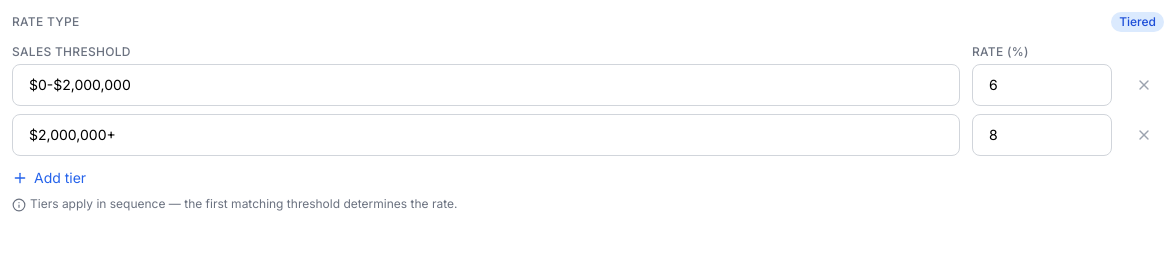
Tiered rate mode › adds a new empty row when "+ Add tier" is clicked
Step 1. Click the button "Add tier" → (49, 178), box x1=12 y1=168 x2=86 y2=188
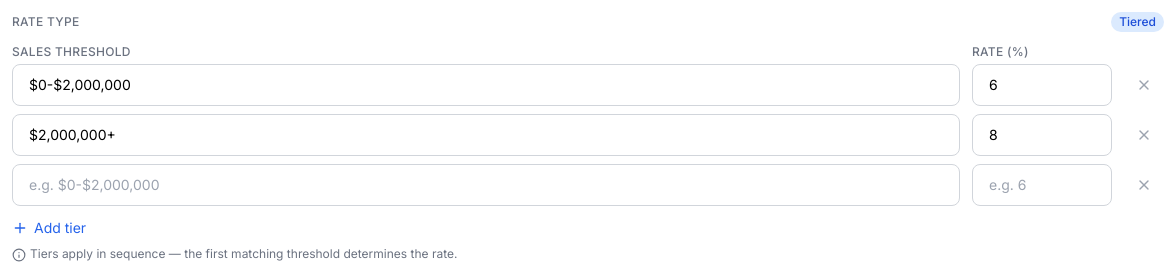
Expected: the number of fields named "sales threshold" is 3, x1=12 y1=64 x2=960 y2=106; x1=12 y1=114 x2=960 y2=156; x1=12 y1=164 x2=960 y2=206
